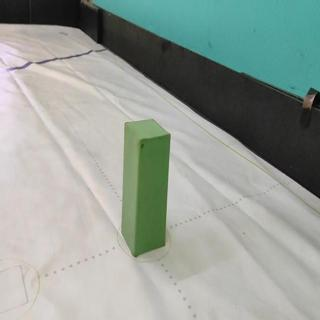greenbox: (123, 117, 172, 258)
